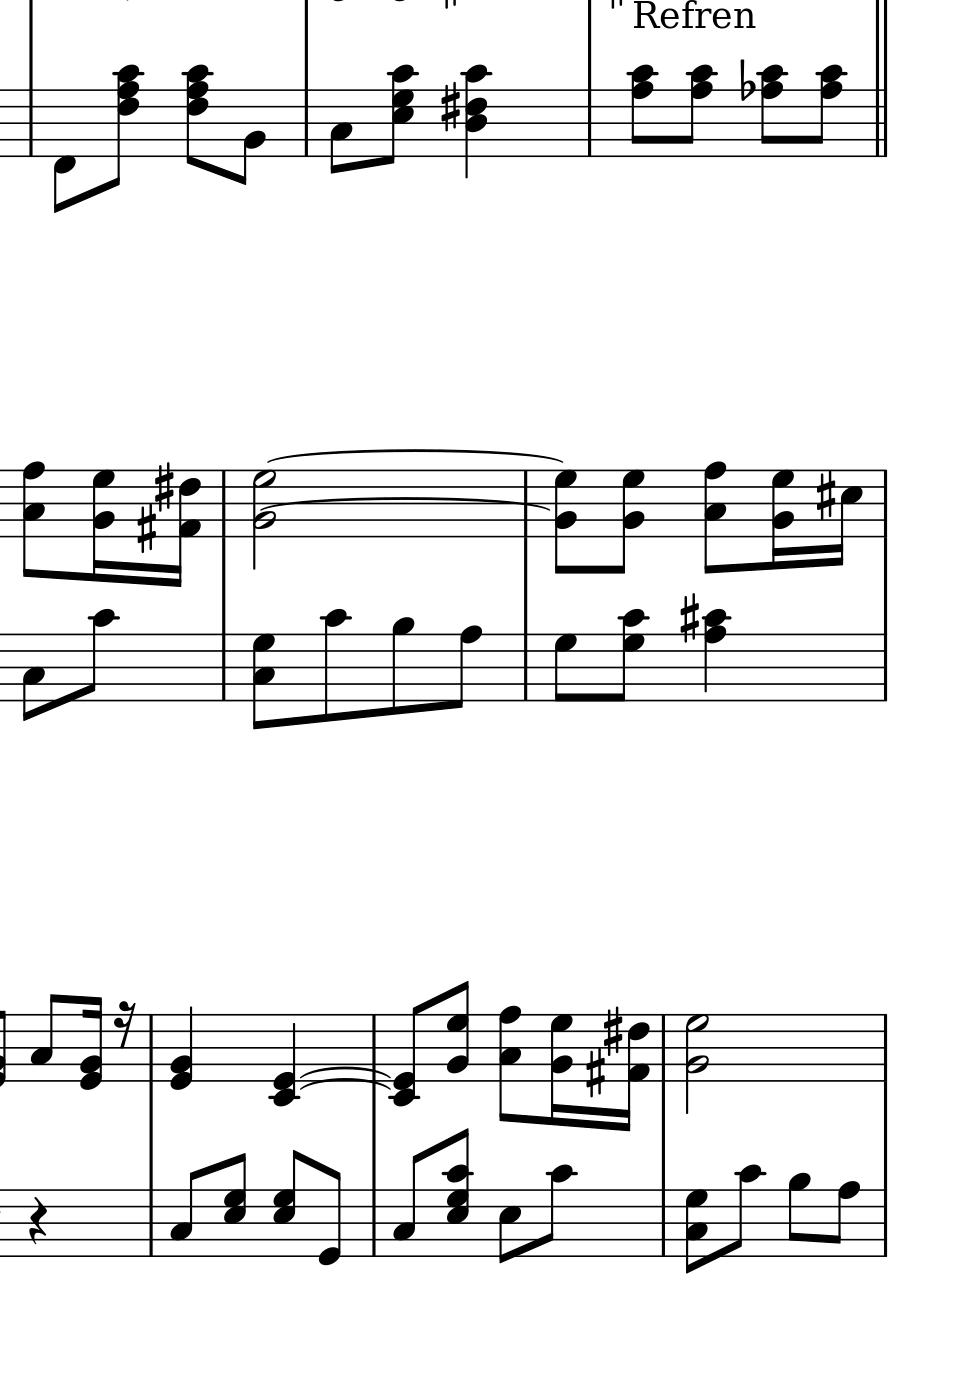16_0_2: (78, 995, 104, 1092)
16_1_6: (170, 468, 202, 590), (622, 1012, 650, 1133)
16_2_7: (91, 468, 117, 585), (549, 1013, 574, 1128), (771, 468, 797, 571)
16_5: (832, 468, 863, 567)
2_2_7: (684, 1012, 710, 1113)
4_-2_0: (268, 1013, 303, 1105)
4_0_2: (169, 1006, 194, 1090)
4_8_10: (701, 608, 731, 703)
4_th: (459, 59, 492, 180)
8_-1: (50, 87, 76, 214)
8_-2_0: (387, 1001, 425, 1105)
8_0: (315, 1168, 343, 1270)
8_10: (78, 607, 116, 704), (538, 1163, 573, 1259), (727, 1163, 762, 1259), (320, 608, 348, 725)
8_2: (233, 87, 266, 187)
8_2_7: (615, 469, 646, 577), (554, 468, 577, 575), (447, 979, 470, 1083)
8_2_8: (703, 461, 727, 577)
8_3: (390, 1150, 424, 1258), (169, 1166, 202, 1258), (28, 993, 60, 1083), (19, 631, 46, 722), (327, 88, 352, 176)
8_3_7: (252, 632, 277, 730), (684, 1188, 708, 1274)
8_3_8: (20, 460, 46, 579), (498, 1005, 523, 1125)
8_5: (496, 1187, 521, 1266)
8_5_7: (273, 1150, 303, 1259), (222, 1153, 248, 1257)
8_7: (553, 633, 577, 704)
8_7_10: (610, 608, 649, 703)
8_8: (447, 622, 482, 710), (825, 1179, 860, 1259)
8_8_10: (683, 64, 717, 158), (813, 64, 847, 158), (626, 63, 658, 159), (757, 63, 789, 159)
8_9: (389, 616, 414, 717), (786, 1172, 810, 1259)
8_th: (100, 63, 147, 193), (179, 62, 214, 178)
Double_barline: (869, 89, 892, 158)
Flat: (738, 56, 755, 103)
Rests16: (112, 1000, 137, 1050)
Rests4: (27, 1195, 49, 1247)
Sharp: (437, 80, 462, 134), (134, 503, 158, 556), (813, 469, 837, 523), (152, 459, 175, 512), (583, 1048, 607, 1099), (678, 592, 700, 644), (601, 1003, 624, 1054)
Single_barline: (142, 1189, 161, 1256), (215, 633, 233, 702), (297, 90, 315, 156), (580, 90, 598, 156), (517, 634, 535, 700), (366, 1014, 384, 1080), (142, 1015, 160, 1081), (655, 1189, 672, 1258), (517, 470, 533, 538), (876, 1189, 893, 1257), (876, 634, 893, 701), (365, 1189, 382, 1256), (216, 470, 232, 538), (657, 1014, 672, 1082), (877, 1014, 893, 1082), (22, 89, 38, 156), (877, 469, 892, 539)
Slur: (266, 448, 567, 464), (259, 495, 552, 511), (298, 1080, 391, 1091), (300, 1066, 391, 1077)
